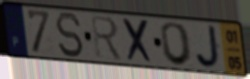7: (27, 9, 53, 56)
J: (194, 24, 223, 70)
O: (159, 21, 195, 68)
R: (89, 14, 125, 63)
S: (54, 11, 86, 60)
X: (121, 16, 155, 65)
